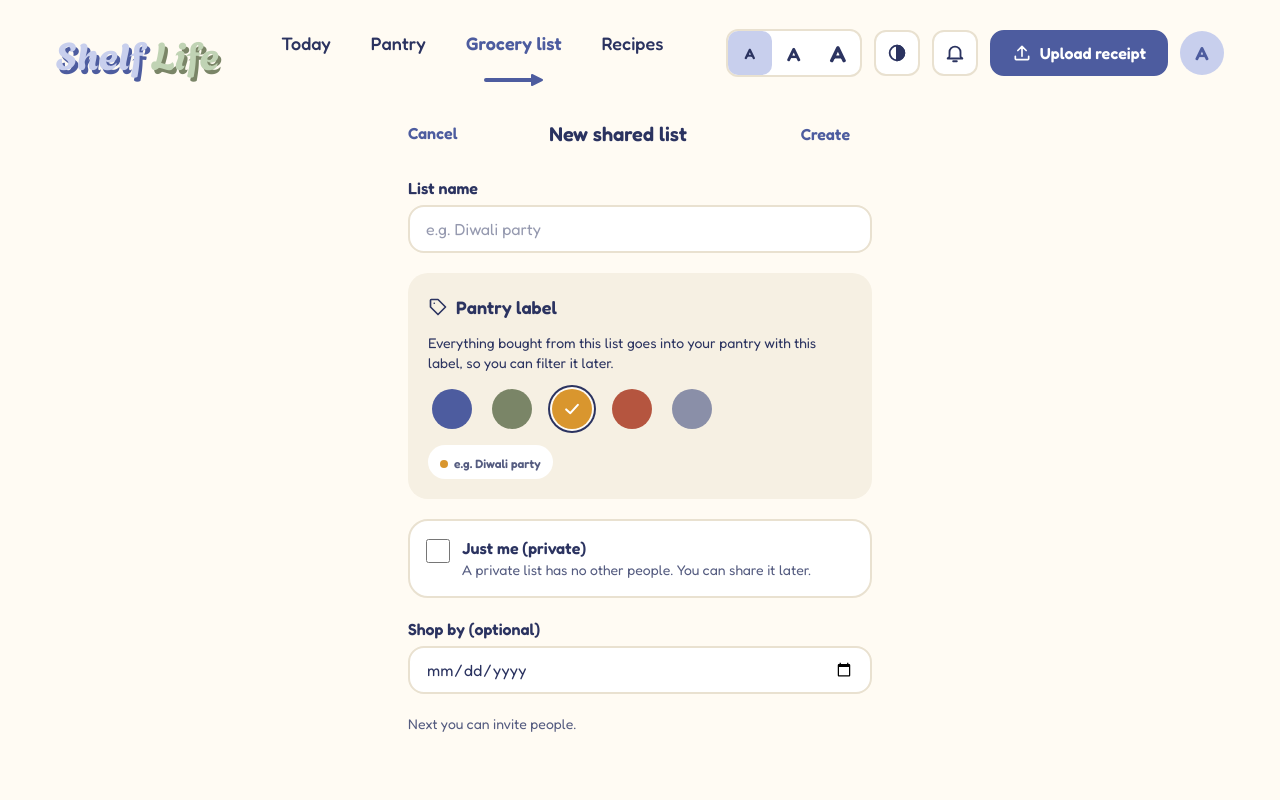
Test: NewListPage (SHR-2, SHR-7) › asks for a name
Click the button "Create" at point(825, 134), box [779,110,872,156]
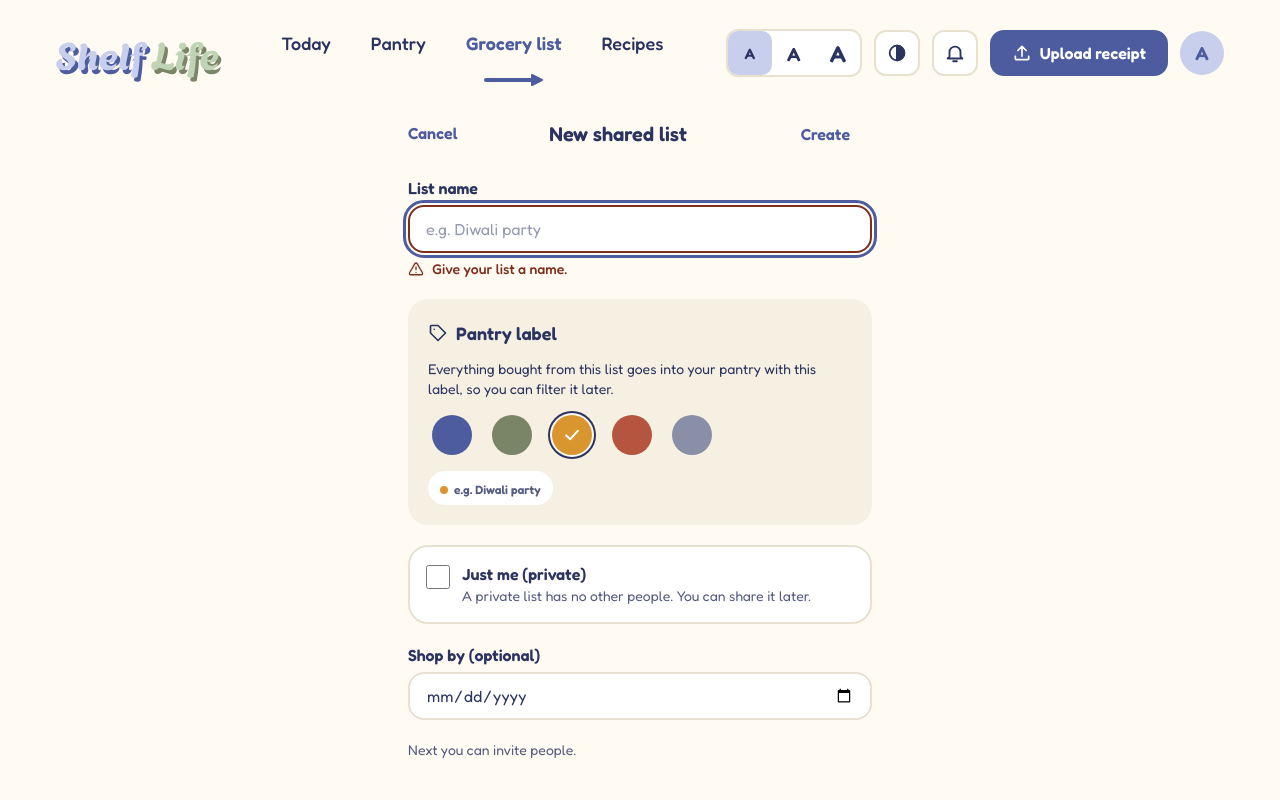
Now the message reads "Give your list a name.", box [432,260,567,277]
